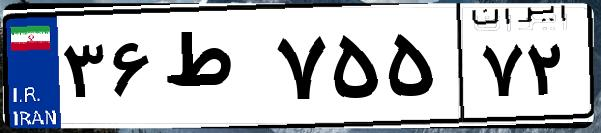2: (525, 38, 570, 115)
3: (57, 26, 110, 100)
5: (385, 28, 445, 110), (330, 28, 385, 110)
6: (110, 28, 158, 98)
7: (270, 28, 330, 110), (475, 38, 525, 113)
ط: (158, 20, 270, 120)
